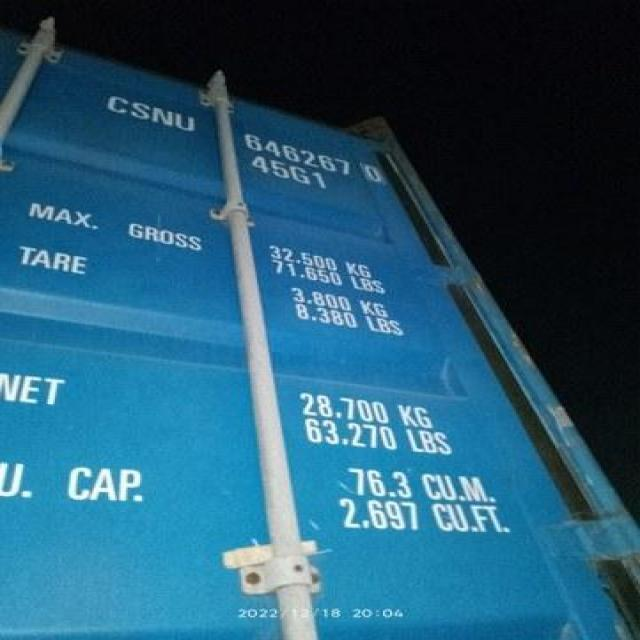ISO: (246, 152, 332, 192)
container_number: (101, 84, 392, 192), (0, 374, 62, 404)
